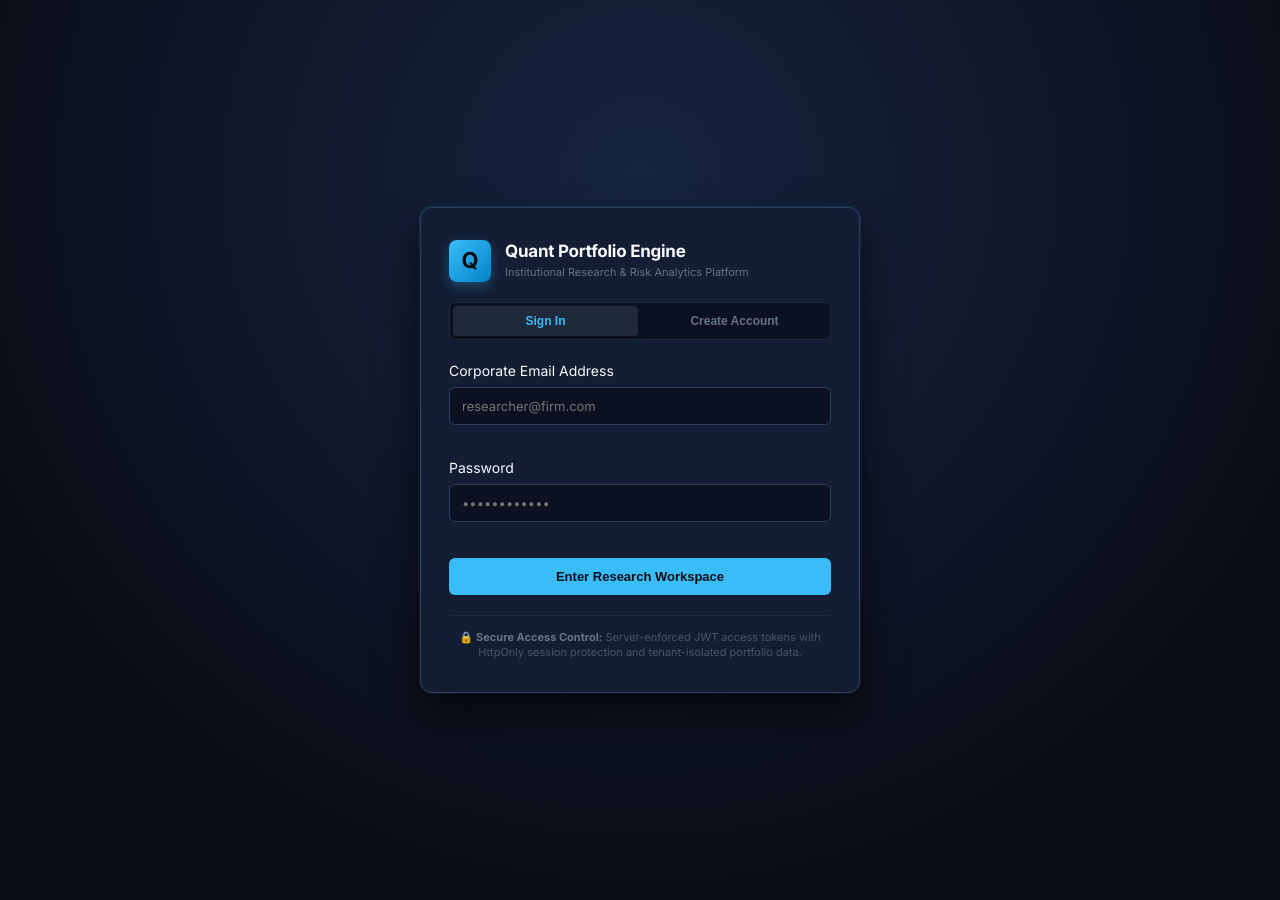
Test: Quant Research Dashboard UI Shell › renders authentication login view when session is unauthenticated
Check: the heading "Quant Portfolio Engine" is shown, box [505,241,686,261]
Check: the text "Institutional Research & Risk Analytics Platform" is shown, box [505,264,749,280]
Switch to Register Tab
Click the tab "Create Account": (734, 321) [642,306,827,336]
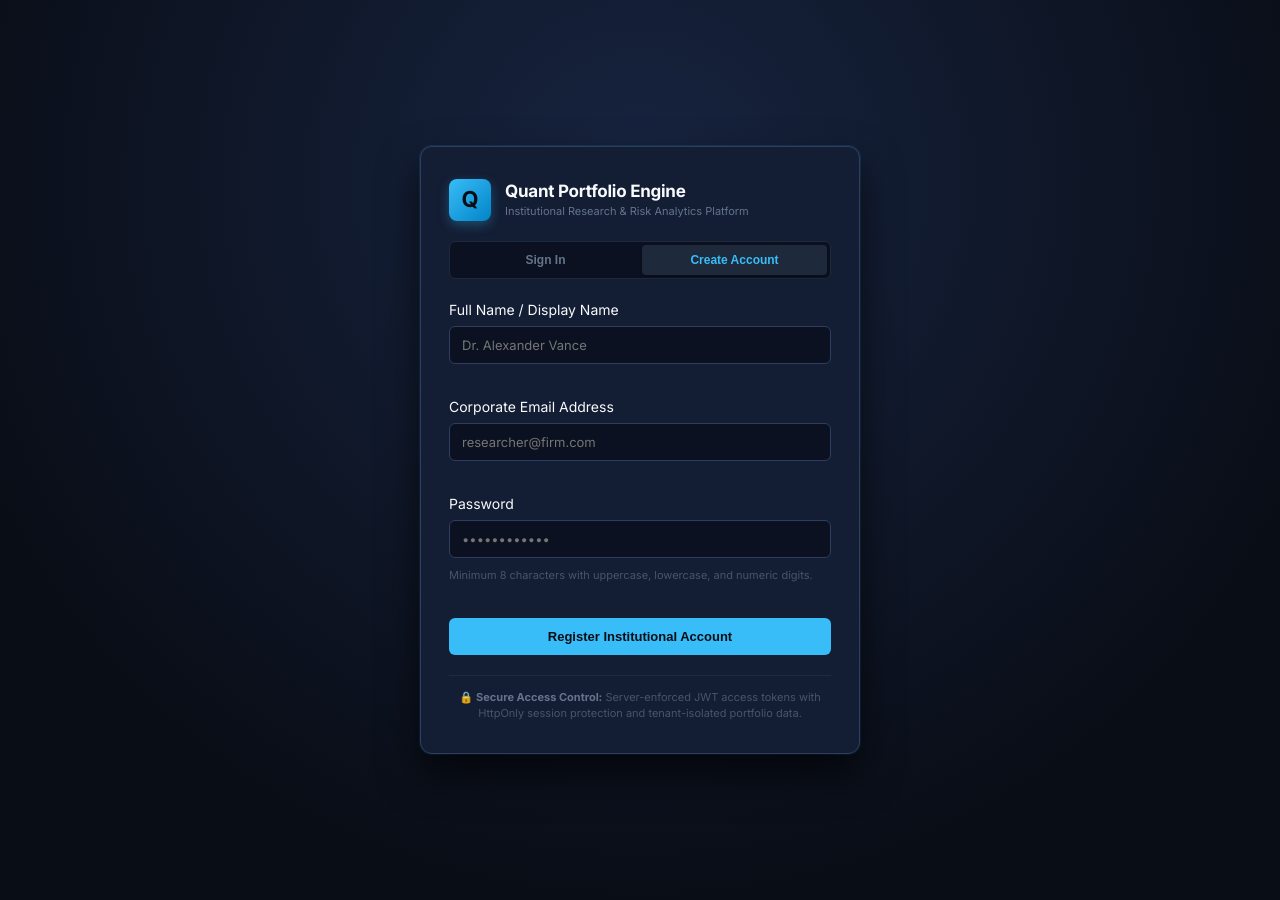
Check: the button "Register Institutional Account" is shown, box [449,618,831,655]
